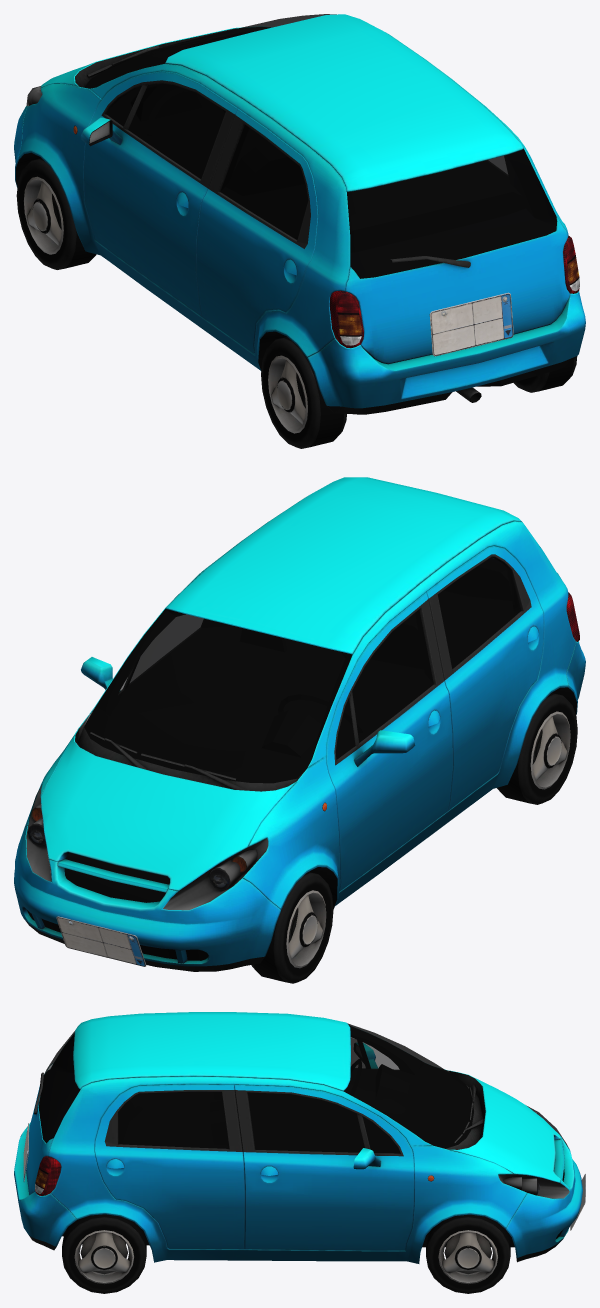
The model's file is compact.glb.
The picture shows the model from 3 angles, top to bottom: view 1: azimuth 30°, elevation 25°; view 2: azimuth 150°, elevation 25°; view 3: azimuth 270°, elevation 25°; orthographic projection. The views are drawn at different scales.
Visible parts, largest first — view 1: Compact Body_Body_0, Compact Body_Glass_0, Tire_RL_0, Tire_FL_0, LicensePlate_Rear, Compact Body_Optics_0, Tire_RR_0; view 2: Compact Body_Body_0, Compact Body_Glass_0, Tire_FL_0, Tire_RL_0, LicensePlate_Front, Compact Body_Optics_0; view 3: Compact Body_Body_0, Compact Body_Glass_0, Tire_RR_0, Tire_FR_0, Compact Body_Optics_0.
Boxes of the visible parts, left/top/right/bottom form: Compact Body_Body_0: left=14, top=14, right=585, bottom=414; Compact Body_Glass_0: left=26, top=14, right=556, bottom=278; Tire_RL_0: left=261, top=337, right=346, bottom=448; Tire_FL_0: left=16, top=158, right=96, bottom=269; LicensePlate_Rear: left=429, top=292, right=513, bottom=356; Compact Body_Optics_0: left=73, top=125, right=579, bottom=348; Tire_RR_0: left=513, top=356, right=577, bottom=392; Compact Body_Body_0: left=14, top=477, right=585, bottom=971; Compact Body_Glass_0: left=26, top=547, right=540, bottom=910; Tire_FL_0: left=251, top=872, right=333, bottom=983; Tire_RL_0: left=497, top=692, right=577, bottom=804; LicensePlate_Front: left=56, top=916, right=146, bottom=966; Compact Body_Optics_0: left=28, top=592, right=579, bottom=889; Compact Body_Body_0: left=14, top=1012, right=582, bottom=1263; Compact Body_Glass_0: left=38, top=1023, right=569, bottom=1198; Tire_RR_0: left=62, top=1214, right=146, bottom=1293; Tire_FR_0: left=426, top=1214, right=510, bottom=1293; Compact Body_Optics_0: left=35, top=1113, right=539, bottom=1195.
Bounding box in the file's own units: 1.61 × 1.32 × 3.27.
6 materials, 4 textured.
